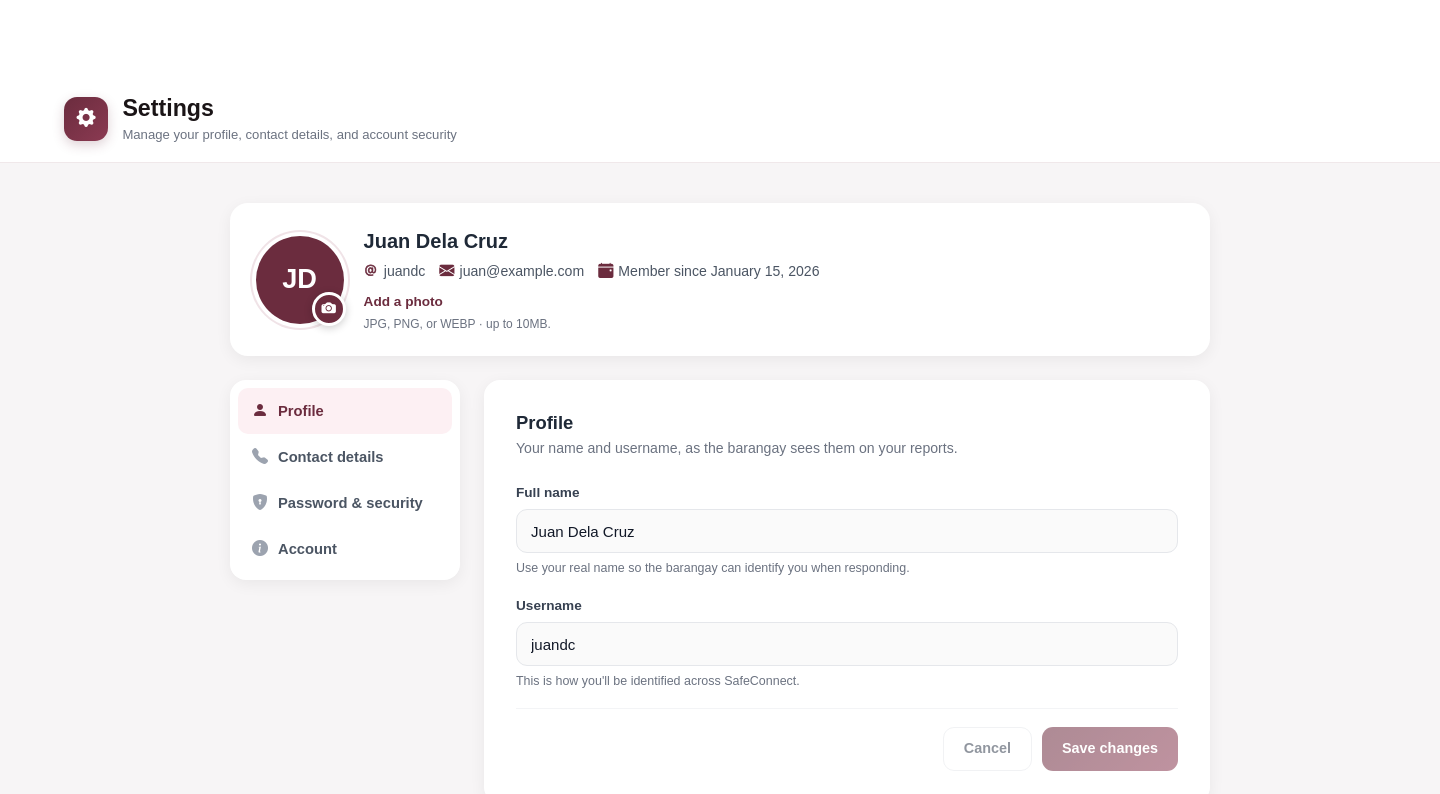
Test: Password › a weak new password is blocked with the same rules as Sign Up
Expected: the field labelled "Full name" holds "Juan Dela Cruz", [516,509,1178,553]
Click the button "Password & security". click: x=345, y=503
box: [238,480,452,526]
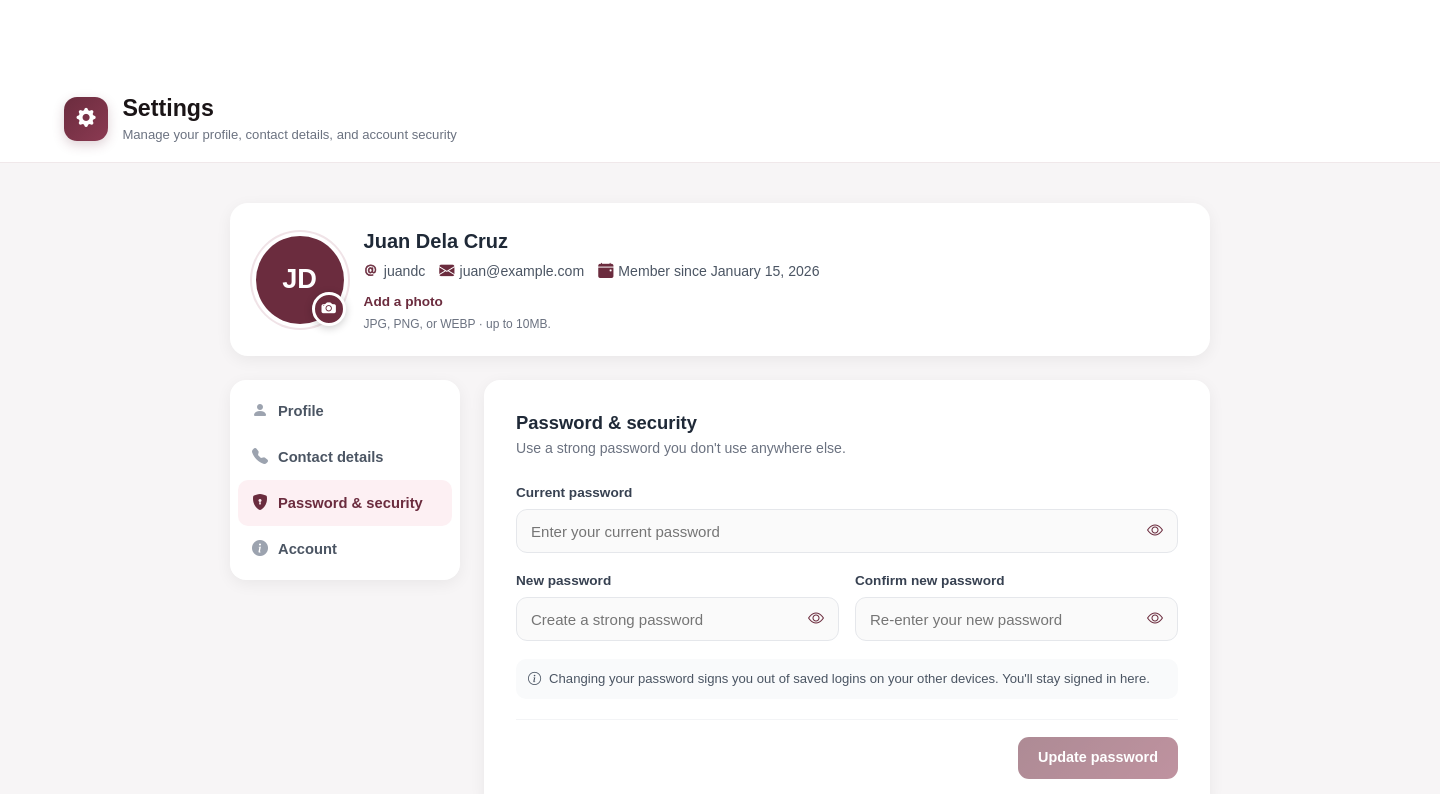
Type "OldPass1!" into the password field labelled "Current password". click: x=847, y=531
box: [516,509,1178,553]
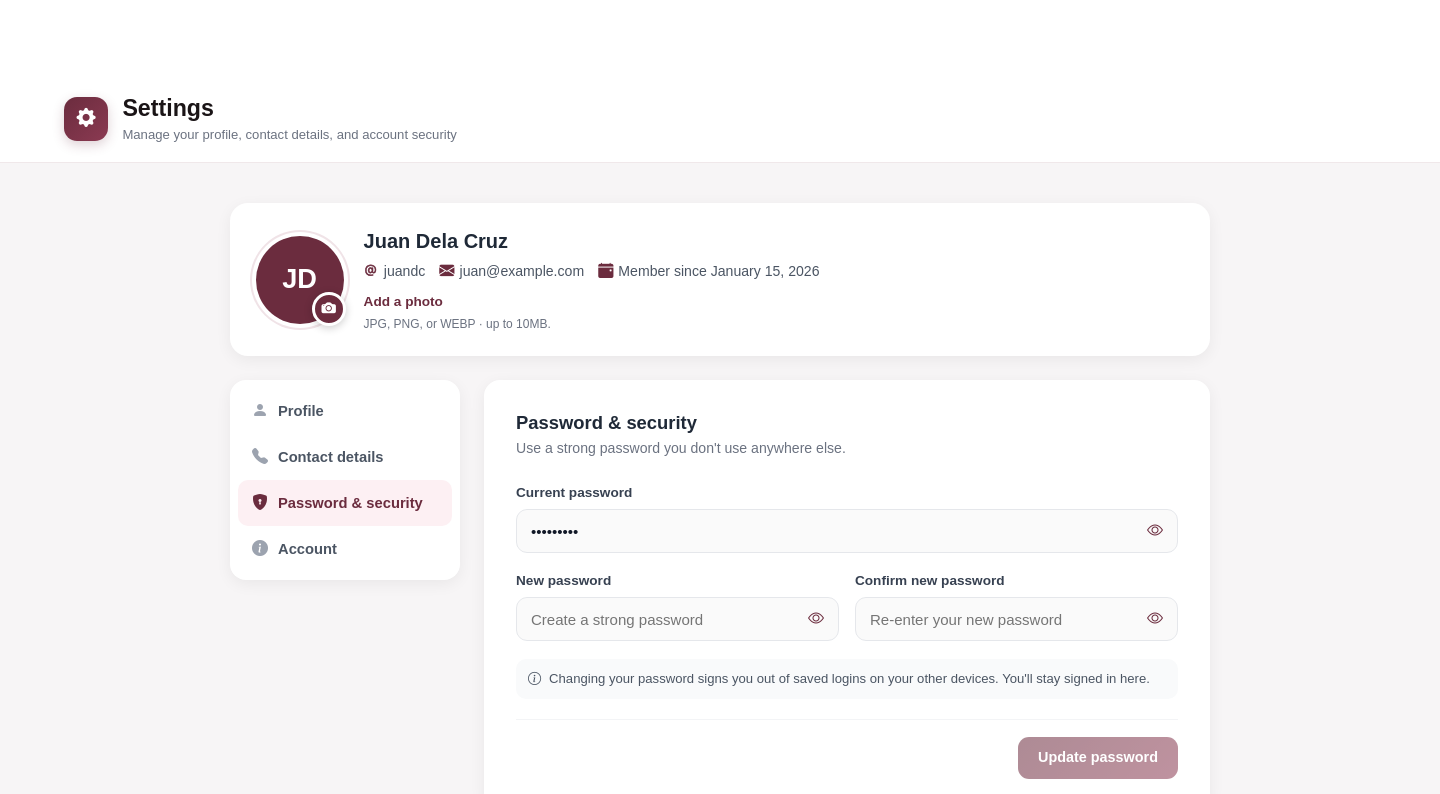
Type "weakpass" into the password field labelled "New password". click: x=678, y=619
box: [516,597,839,641]
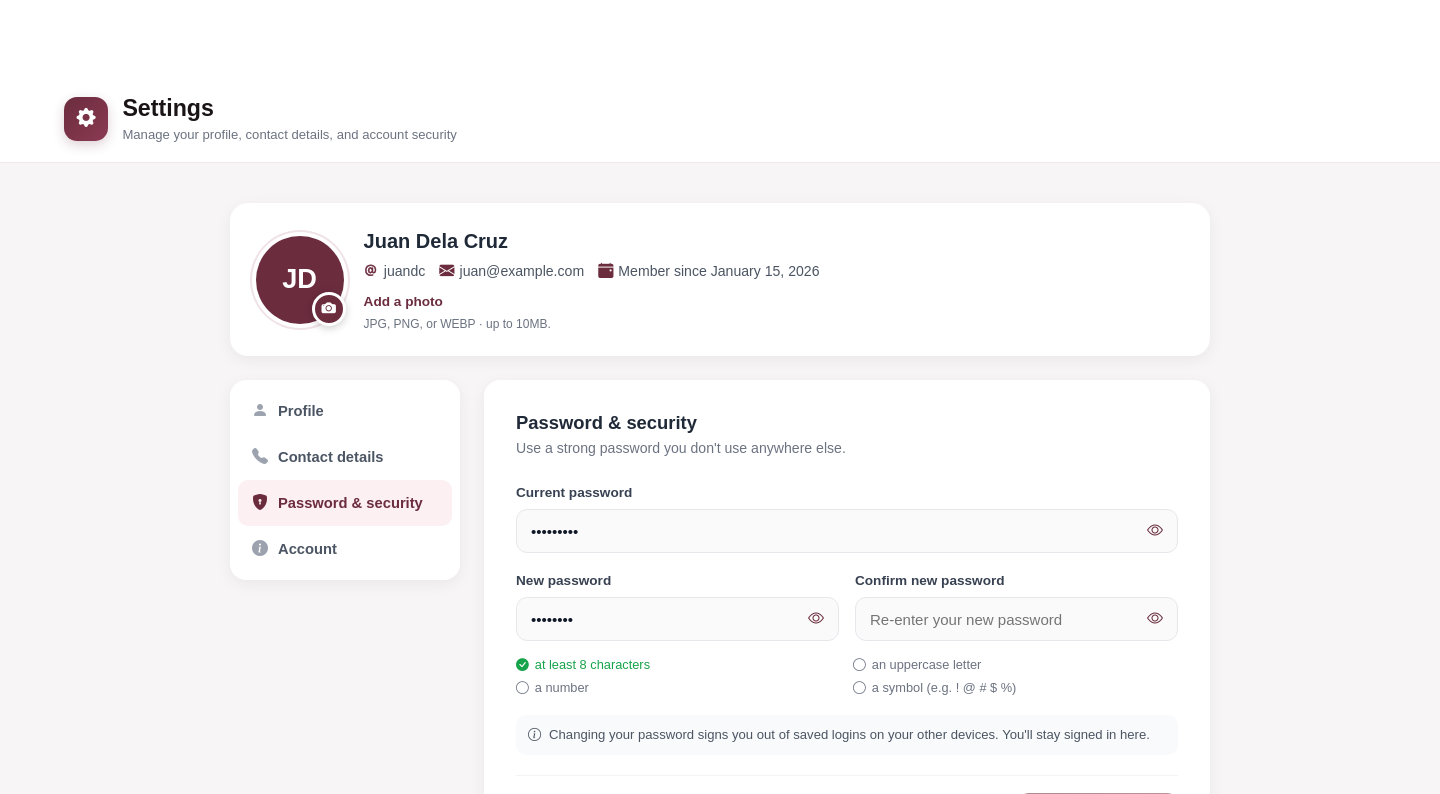
Type "weakpass" into the password field labelled "Confirm new password". click: x=1016, y=619
box: [855,597,1178,641]
(page scrolled)
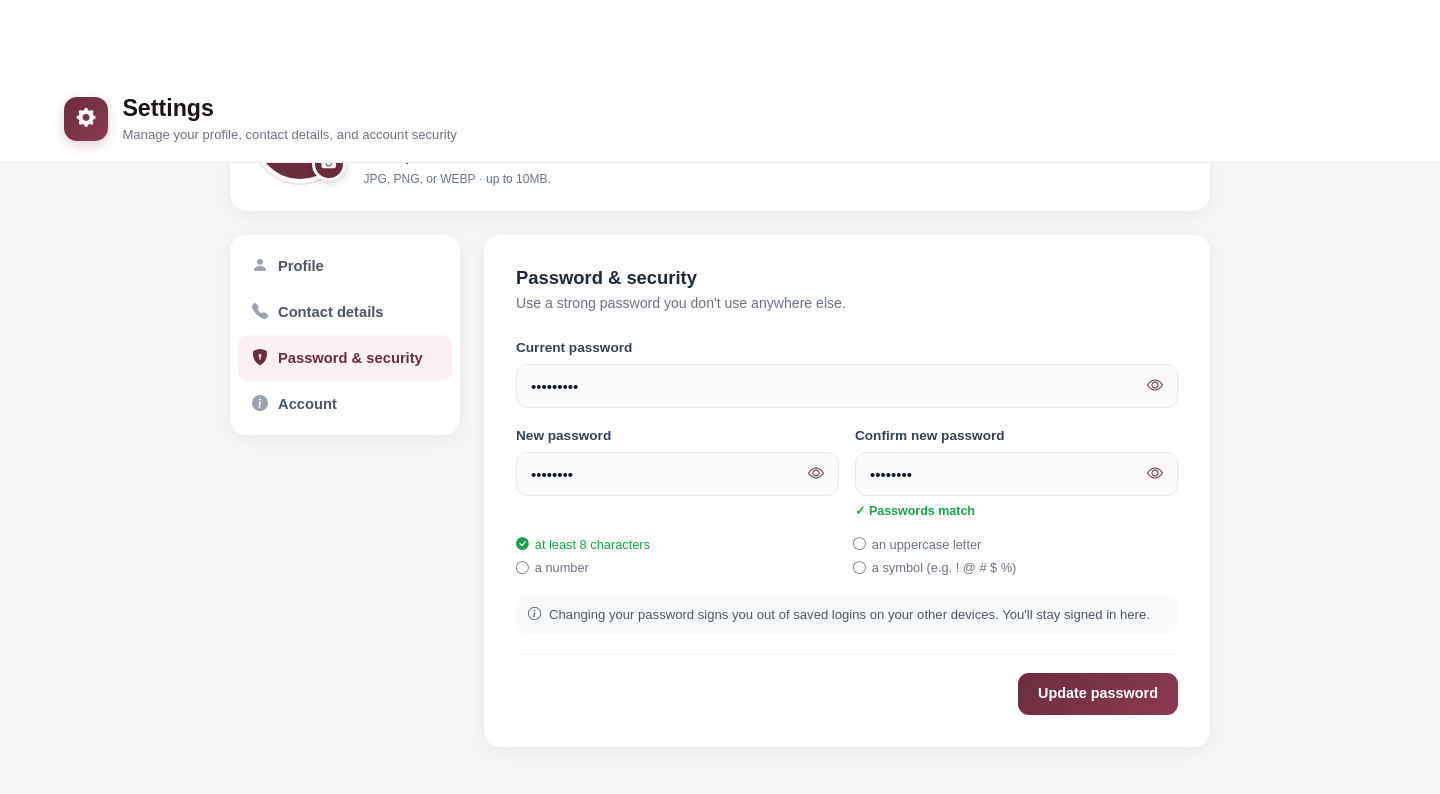
Click the button "Update password". click: x=1098, y=694
box: [1018,673,1178,715]
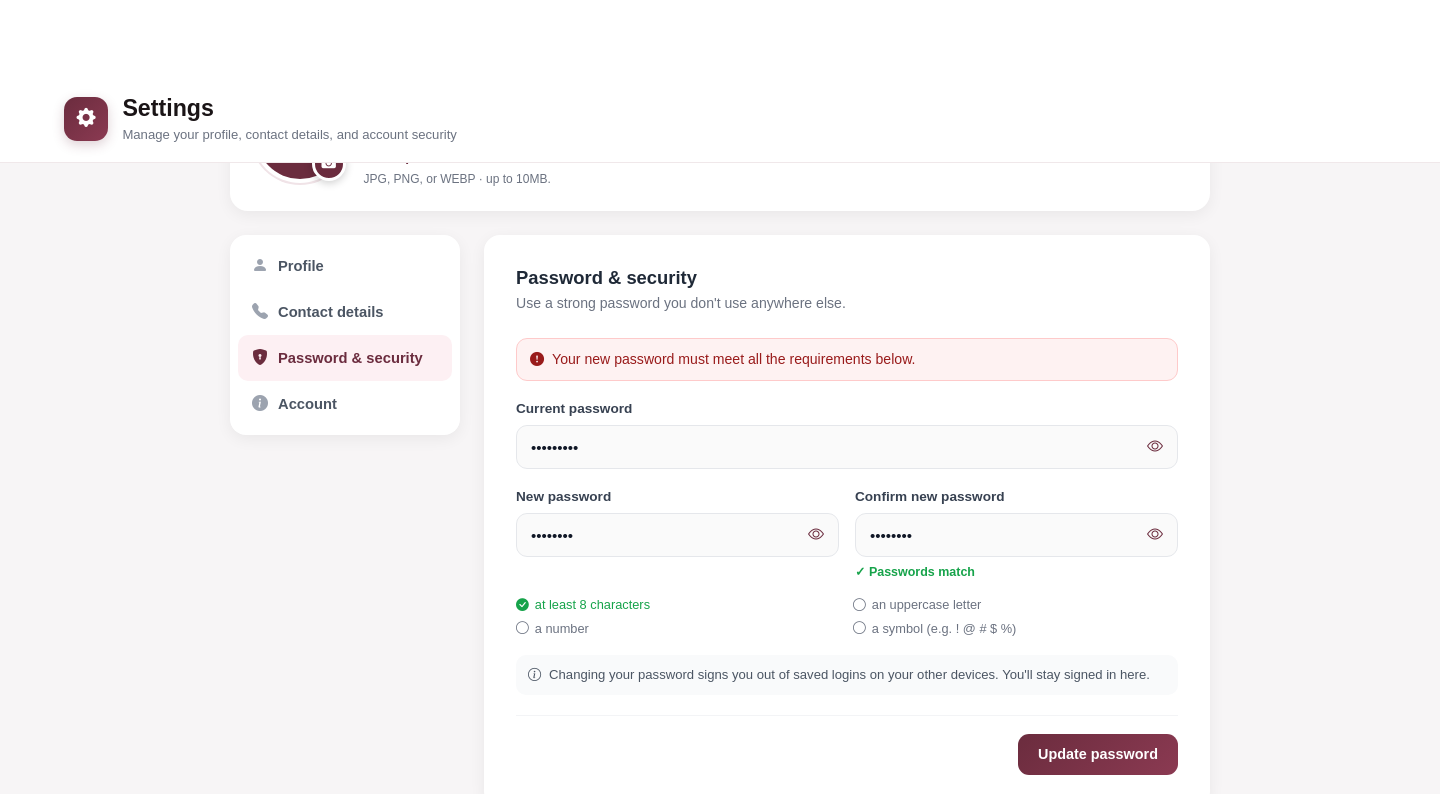
Expected: the text "Your new password must meet all the requirements below." is shown, [552,349,916,370]
